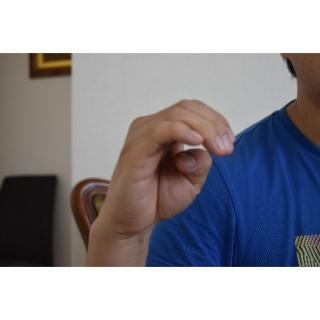JEEM: (89, 92, 237, 257)
